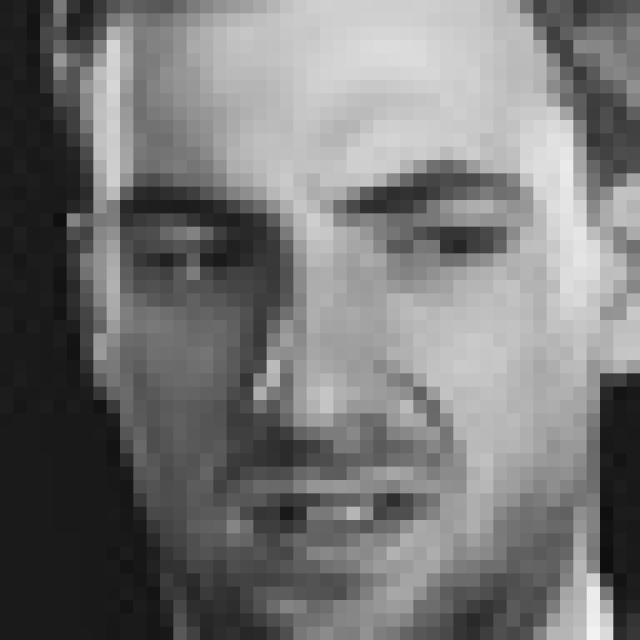disgust: (114, 156, 532, 605)
